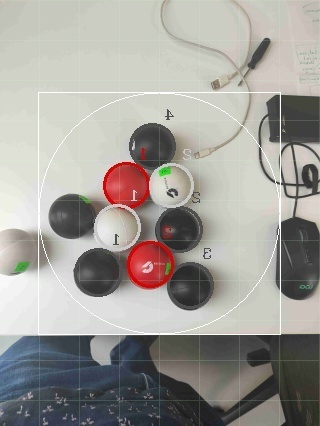Pelota blanca: (159, 0, 254, 91), (162, 96, 252, 160), (93, 204, 143, 254), (47, 193, 97, 240), (149, 161, 196, 208), (0, 228, 44, 278)
Pelota negra: (274, 217, 320, 302), (74, 246, 121, 299), (167, 260, 214, 312), (154, 206, 204, 254), (47, 193, 97, 240), (127, 121, 177, 166)
Pelota roja: (125, 238, 177, 291), (103, 161, 151, 208)
